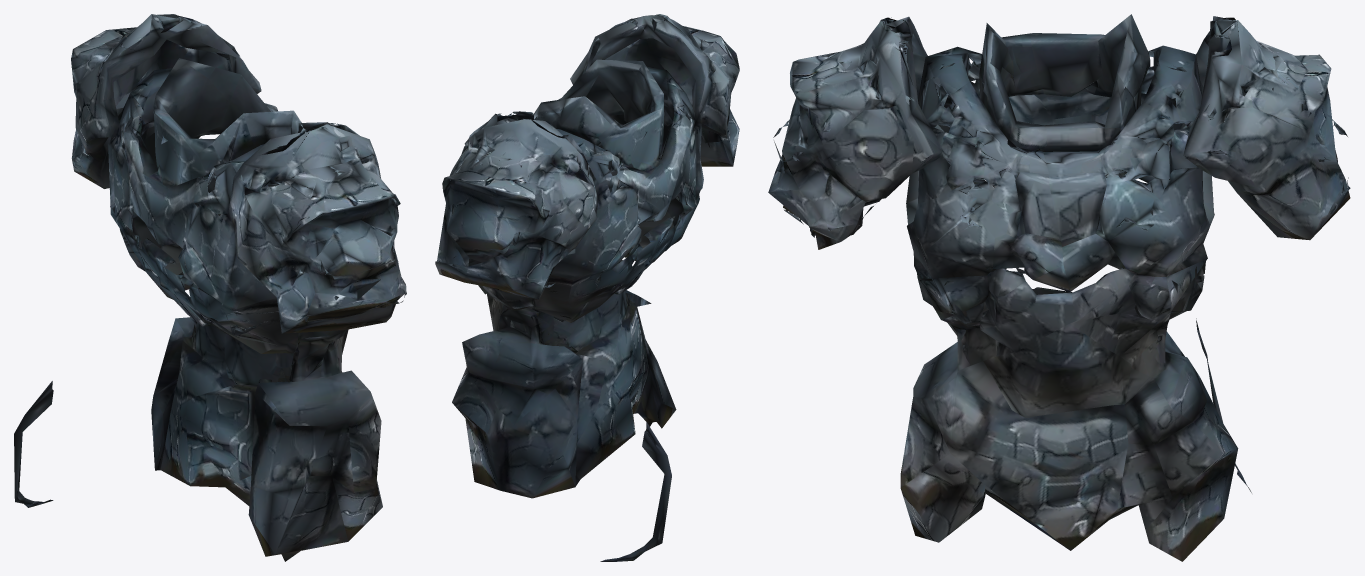
3 renders of one model, left to right at view 1: azimuth 30°, elevation 25°; view 2: azimuth 150°, elevation 25°; view 3: azimuth 270°, elevation 25°, orthographic. The views are drawn at different scales.
Parts seen in each view (by area): view 1: tripo_node_78c27ea8-0ca4-4137-a20d-80c5dd1e8b6f; view 2: tripo_node_78c27ea8-0ca4-4137-a20d-80c5dd1e8b6f; view 3: tripo_node_78c27ea8-0ca4-4137-a20d-80c5dd1e8b6f.
Boxes of the visible parts, x1=… form: tripo_node_78c27ea8-0ca4-4137-a20d-80c5dd1e8b6f: x1=14, y1=14, x2=406, y2=561; tripo_node_78c27ea8-0ca4-4137-a20d-80c5dd1e8b6f: x1=435, y1=14, x2=739, y2=561; tripo_node_78c27ea8-0ca4-4137-a20d-80c5dd1e8b6f: x1=768, y1=14, x2=1350, y2=561.
Bounding box in the file's own units: 0.5903 × 0.9683 × 0.9734.
1 material, 1 textured.
